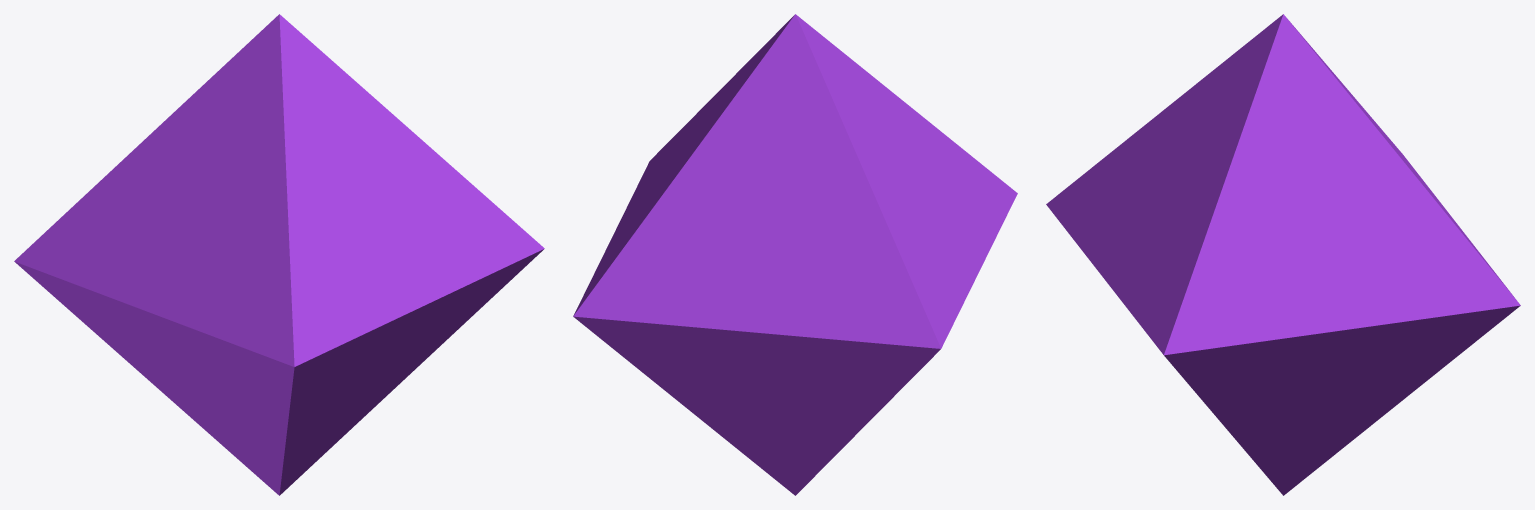
File: Crystal.003.fbx
3 renders of one model, left to right at view 1: azimuth 30°, elevation 25°; view 2: azimuth 150°, elevation 25°; view 3: azimuth 270°, elevation 25°, orthographic.
Parts seen in each view (by area): view 1: Crystal.003; view 2: Crystal.003; view 3: Crystal.003.
Part boxes in pixels (x1=…): Crystal.003: x1=14, y1=14, x2=544, y2=495; Crystal.003: x1=573, y1=14, x2=1017, y2=495; Crystal.003: x1=1046, y1=14, x2=1520, y2=495.
Size of the model in its own units: 914 by 1024 by 914.
